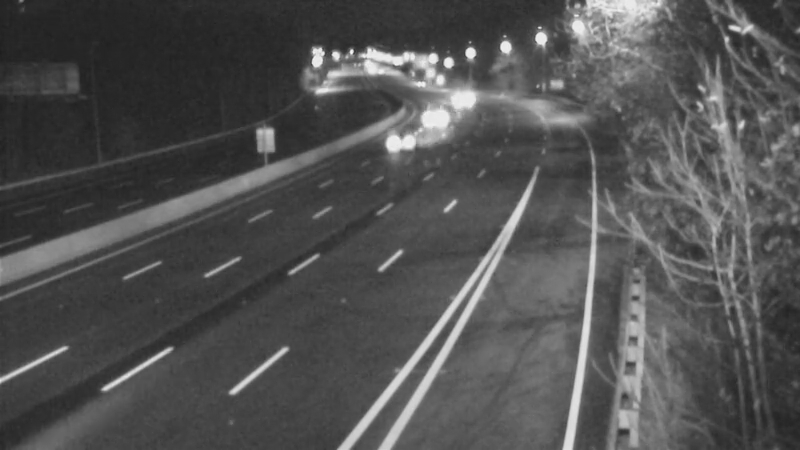vehicle: (391, 58, 441, 108), (438, 71, 488, 121), (411, 88, 461, 138), (378, 109, 428, 159)
